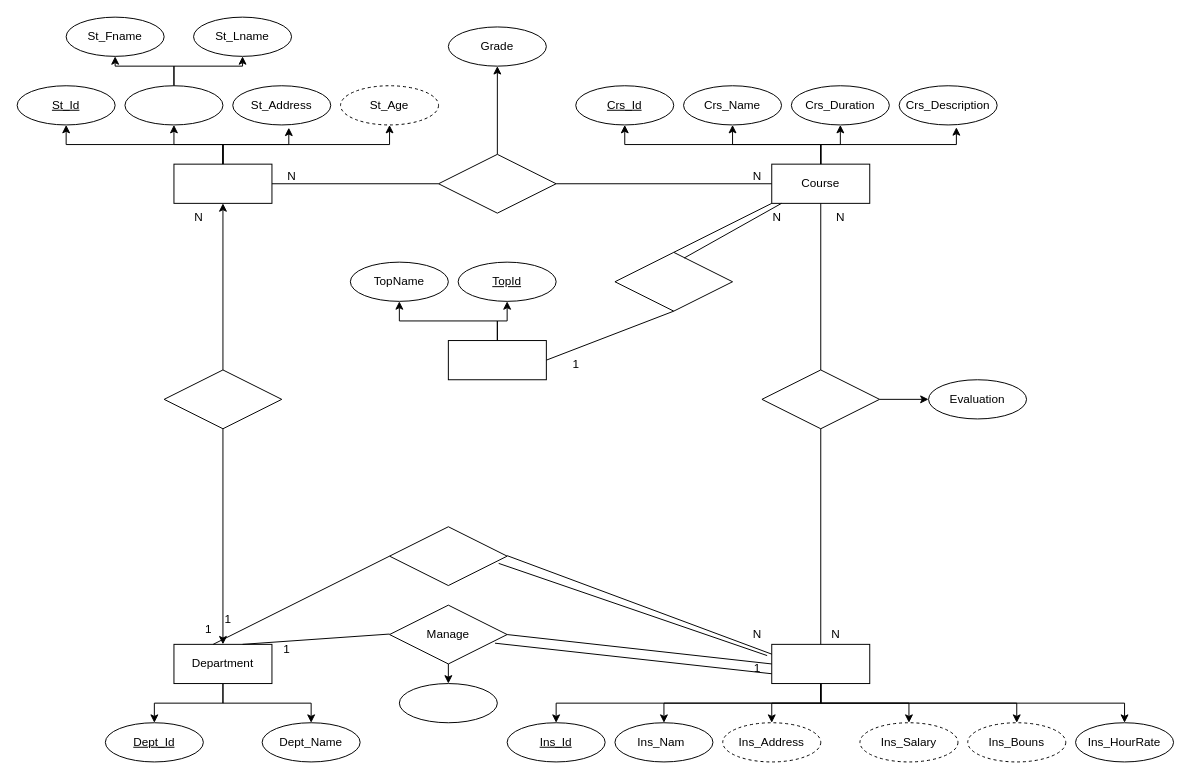
This 1191x779 diagram has some shape labels left out. Each missing label, with the centre of its shape:
Contain: point (673, 281)
Have: point (222, 399)
HiringDate: point (447, 703)
Instructor: point (820, 663)
St_Name: point (173, 105)
Student: point (222, 183)
Student_Course: point (497, 183)
Teach: point (820, 399)
Topic: point (496, 360)
Works: point (448, 556)
